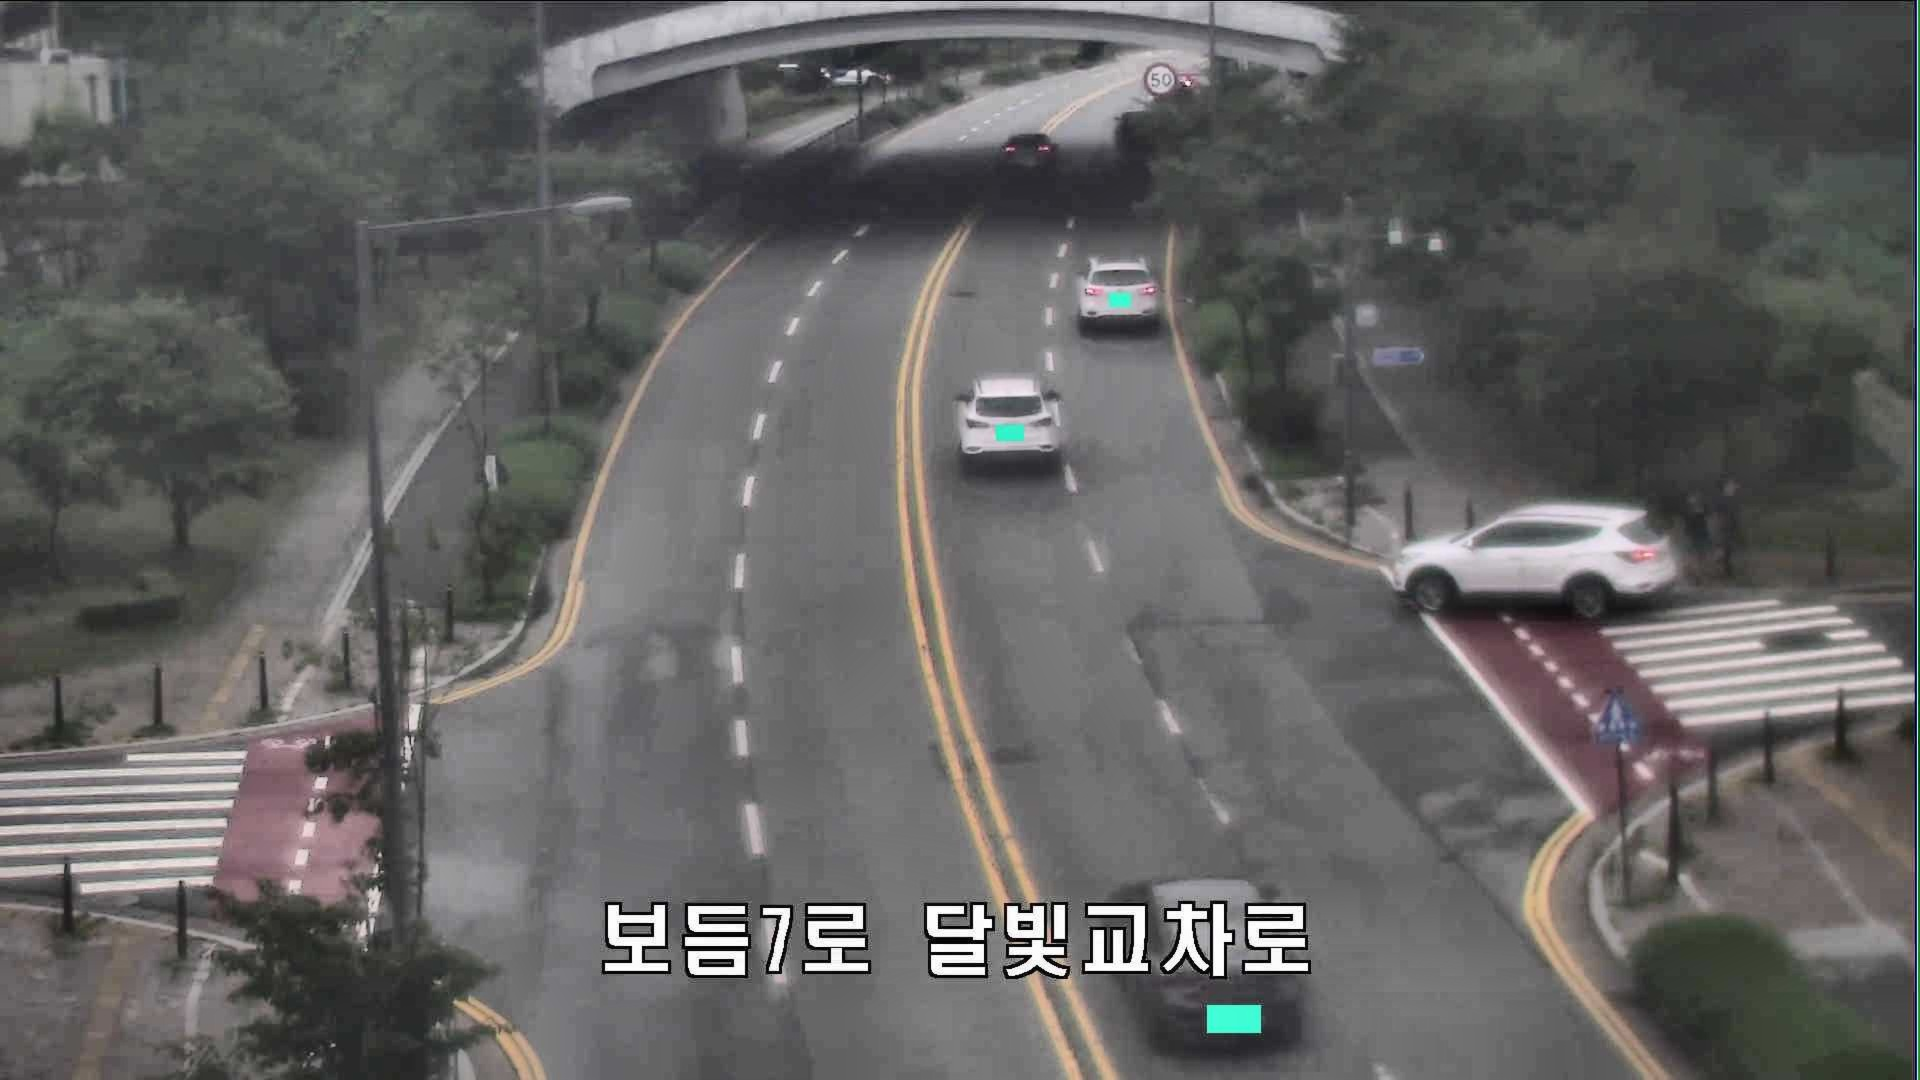sidewalk: (1673, 493, 1715, 582), (1713, 475, 1748, 555)
